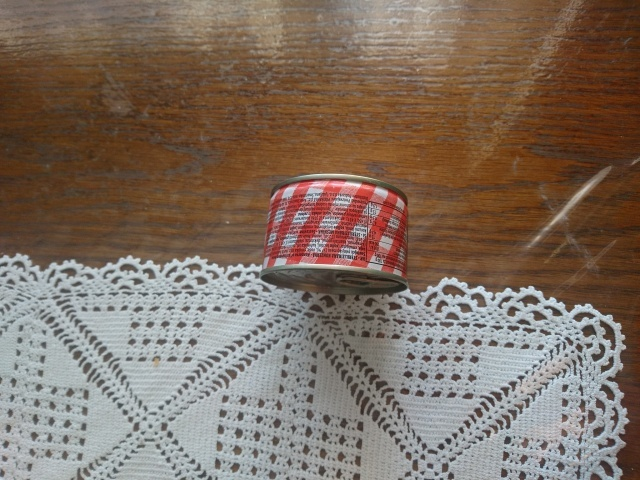Podravka Luncheon Meat 150g: (256, 170, 412, 297)
